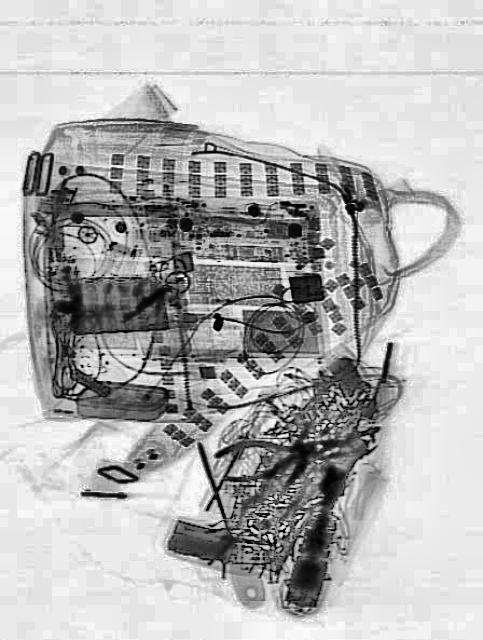Pliers: (212, 419, 342, 488)
